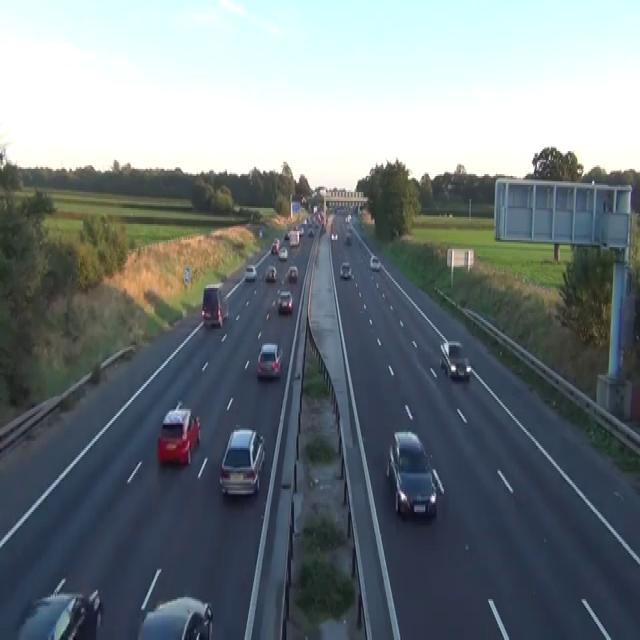Car: (386, 430, 437, 519), (15, 587, 102, 638), (219, 427, 266, 496), (137, 596, 213, 638), (157, 400, 201, 466), (439, 340, 471, 380), (201, 283, 228, 327), (256, 341, 282, 379), (277, 290, 293, 313), (339, 260, 351, 279), (244, 265, 256, 281), (330, 217, 338, 240), (369, 254, 380, 270), (265, 265, 276, 281), (288, 265, 298, 281), (271, 237, 280, 254), (278, 246, 287, 260), (344, 231, 352, 244), (330, 231, 338, 240), (271, 242, 277, 254), (317, 212, 324, 222), (328, 202, 335, 212), (312, 217, 319, 226), (307, 228, 314, 236), (344, 214, 351, 222), (284, 231, 289, 240), (321, 224, 326, 233), (302, 217, 308, 224), (301, 196, 306, 204), (298, 226, 303, 234), (258, 228, 262, 236)
